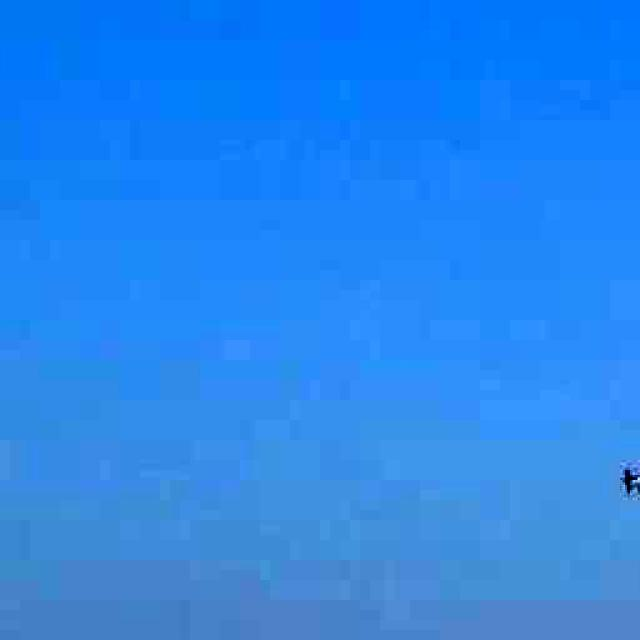bird: (591, 421, 640, 521)
